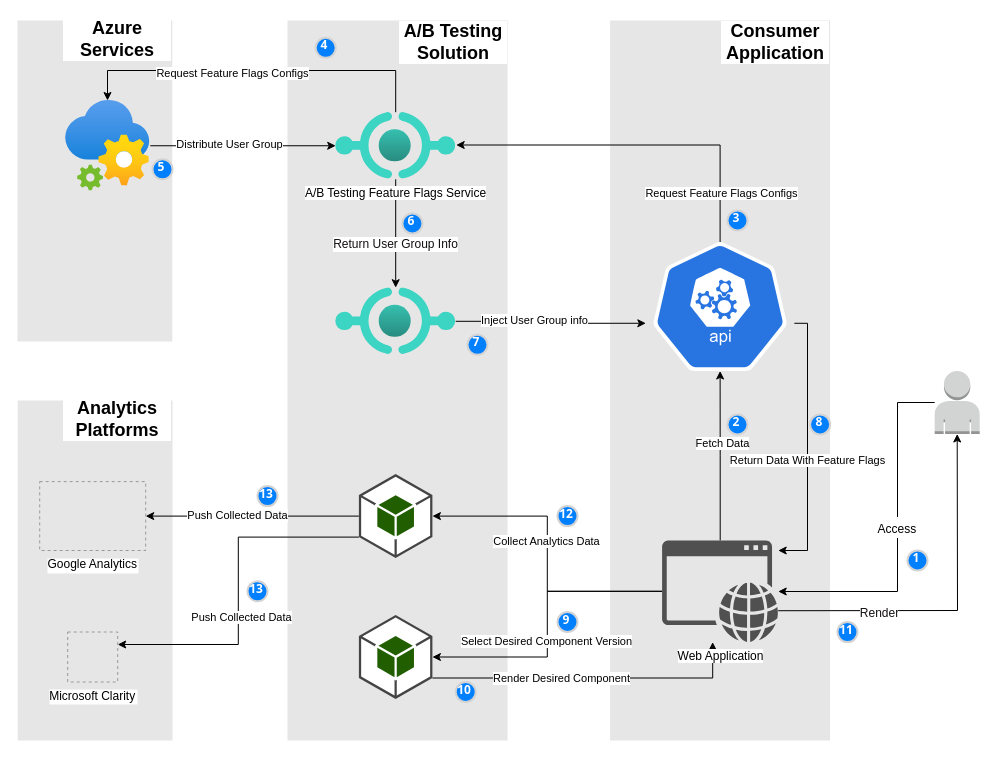
Some shapes in this 997 by 757 pixel diagram are drawn without their labels. Grey dashed boxes stand in for pictures. Here are the shapes that lost their labels. From the top down, the centre of each, then its label:
At point (107, 145): "App Configuration".
At point (395, 320): "A/B Testing HttpContext Middleware".
At point (719, 306): "API Application".
At point (957, 402): "User".
At point (395, 515): "A/B Testing Analytics Services".
At point (395, 656): "A/B Testing Feature Switcher Helpers".
